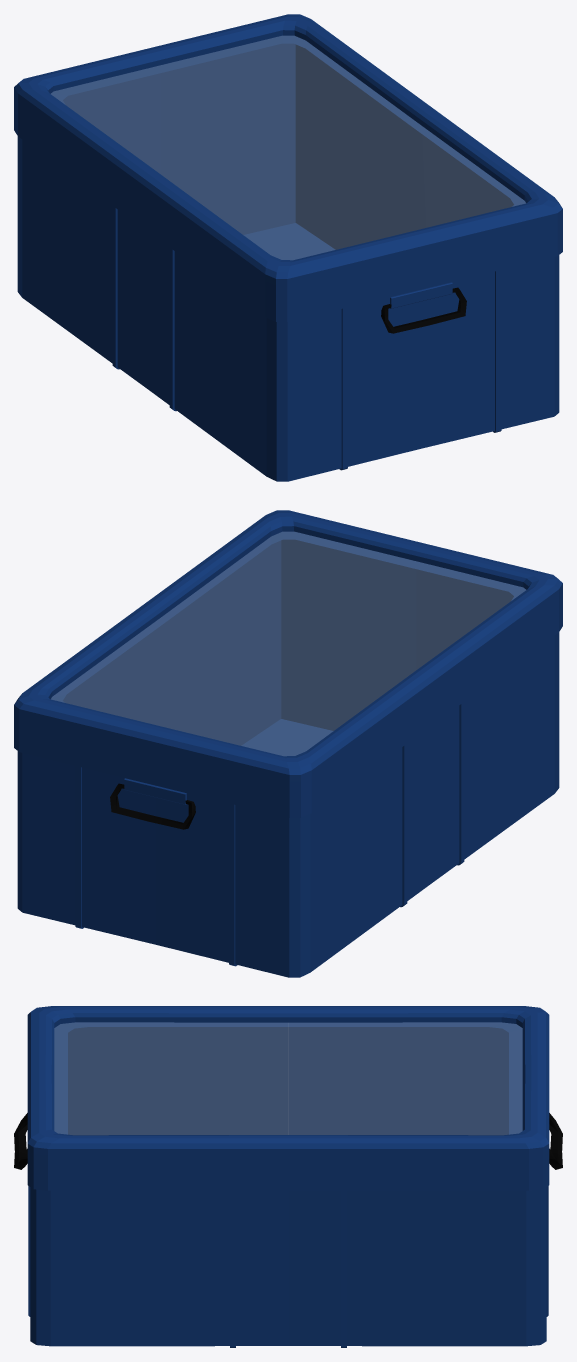
Rendered from BBox.obj.
The picture shows the model from 3 angles, top to bottom: view 1: azimuth 30°, elevation 25°; view 2: azimuth 150°, elevation 25°; view 3: azimuth 270°, elevation 25°; orthographic projection. The views are drawn at different scales.
Parts seen in each view (by area): view 1: BBox_base, BBox_heat; view 2: BBox_base, BBox_heat; view 3: BBox_base, BBox_heat.
Part boxes in pixels (bbox=[...]): BBox_base: bbox=[17, 43, 559, 481]; BBox_heat: bbox=[14, 14, 562, 321]; BBox_base: bbox=[17, 539, 559, 977]; BBox_heat: bbox=[14, 510, 562, 817]; BBox_base: bbox=[14, 1027, 562, 1347]; BBox_heat: bbox=[27, 1006, 549, 1190].
Bounding box in the file's own units: 0.3227 × 0.2235 × 0.5365.
